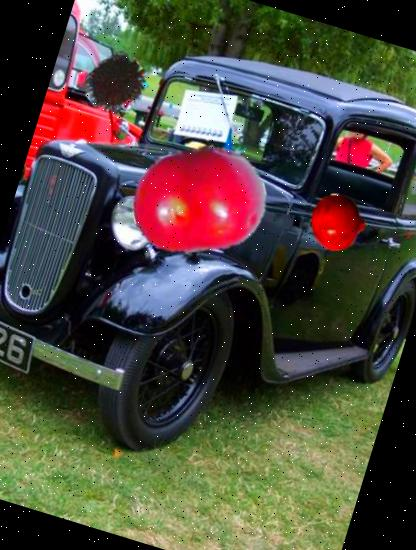Cherry: (114, 116, 284, 286)
Pomegranate: (303, 187, 374, 258)
Rambutan: (76, 45, 156, 124)
